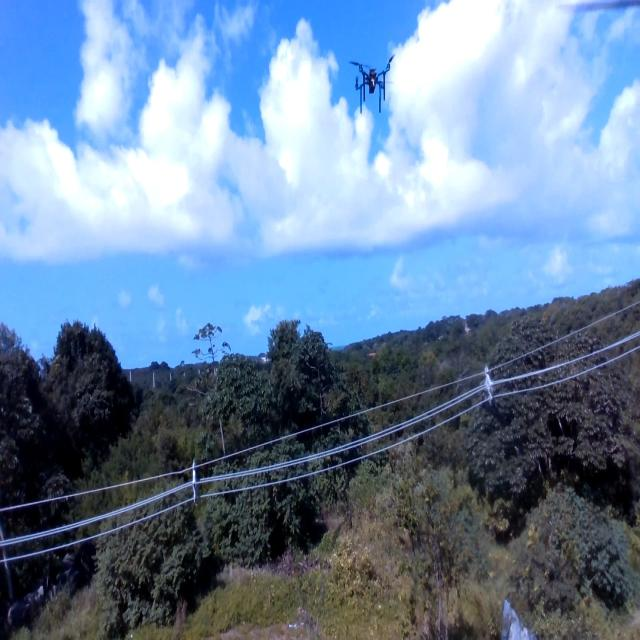-uav-: (344, 46, 402, 124)
